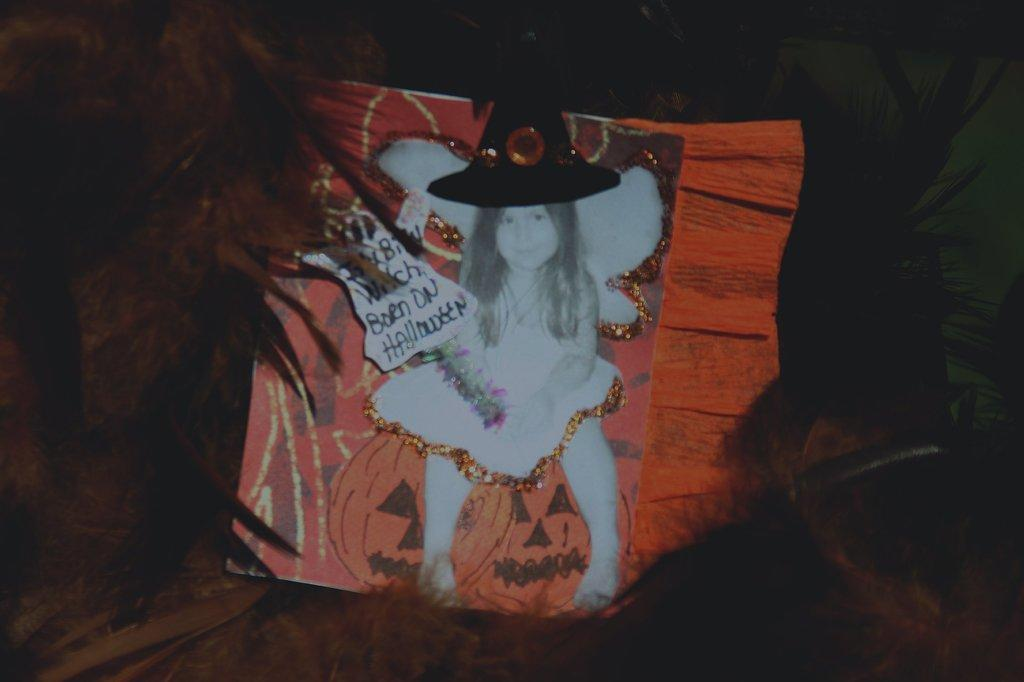Hat: (424, 31, 618, 208)
